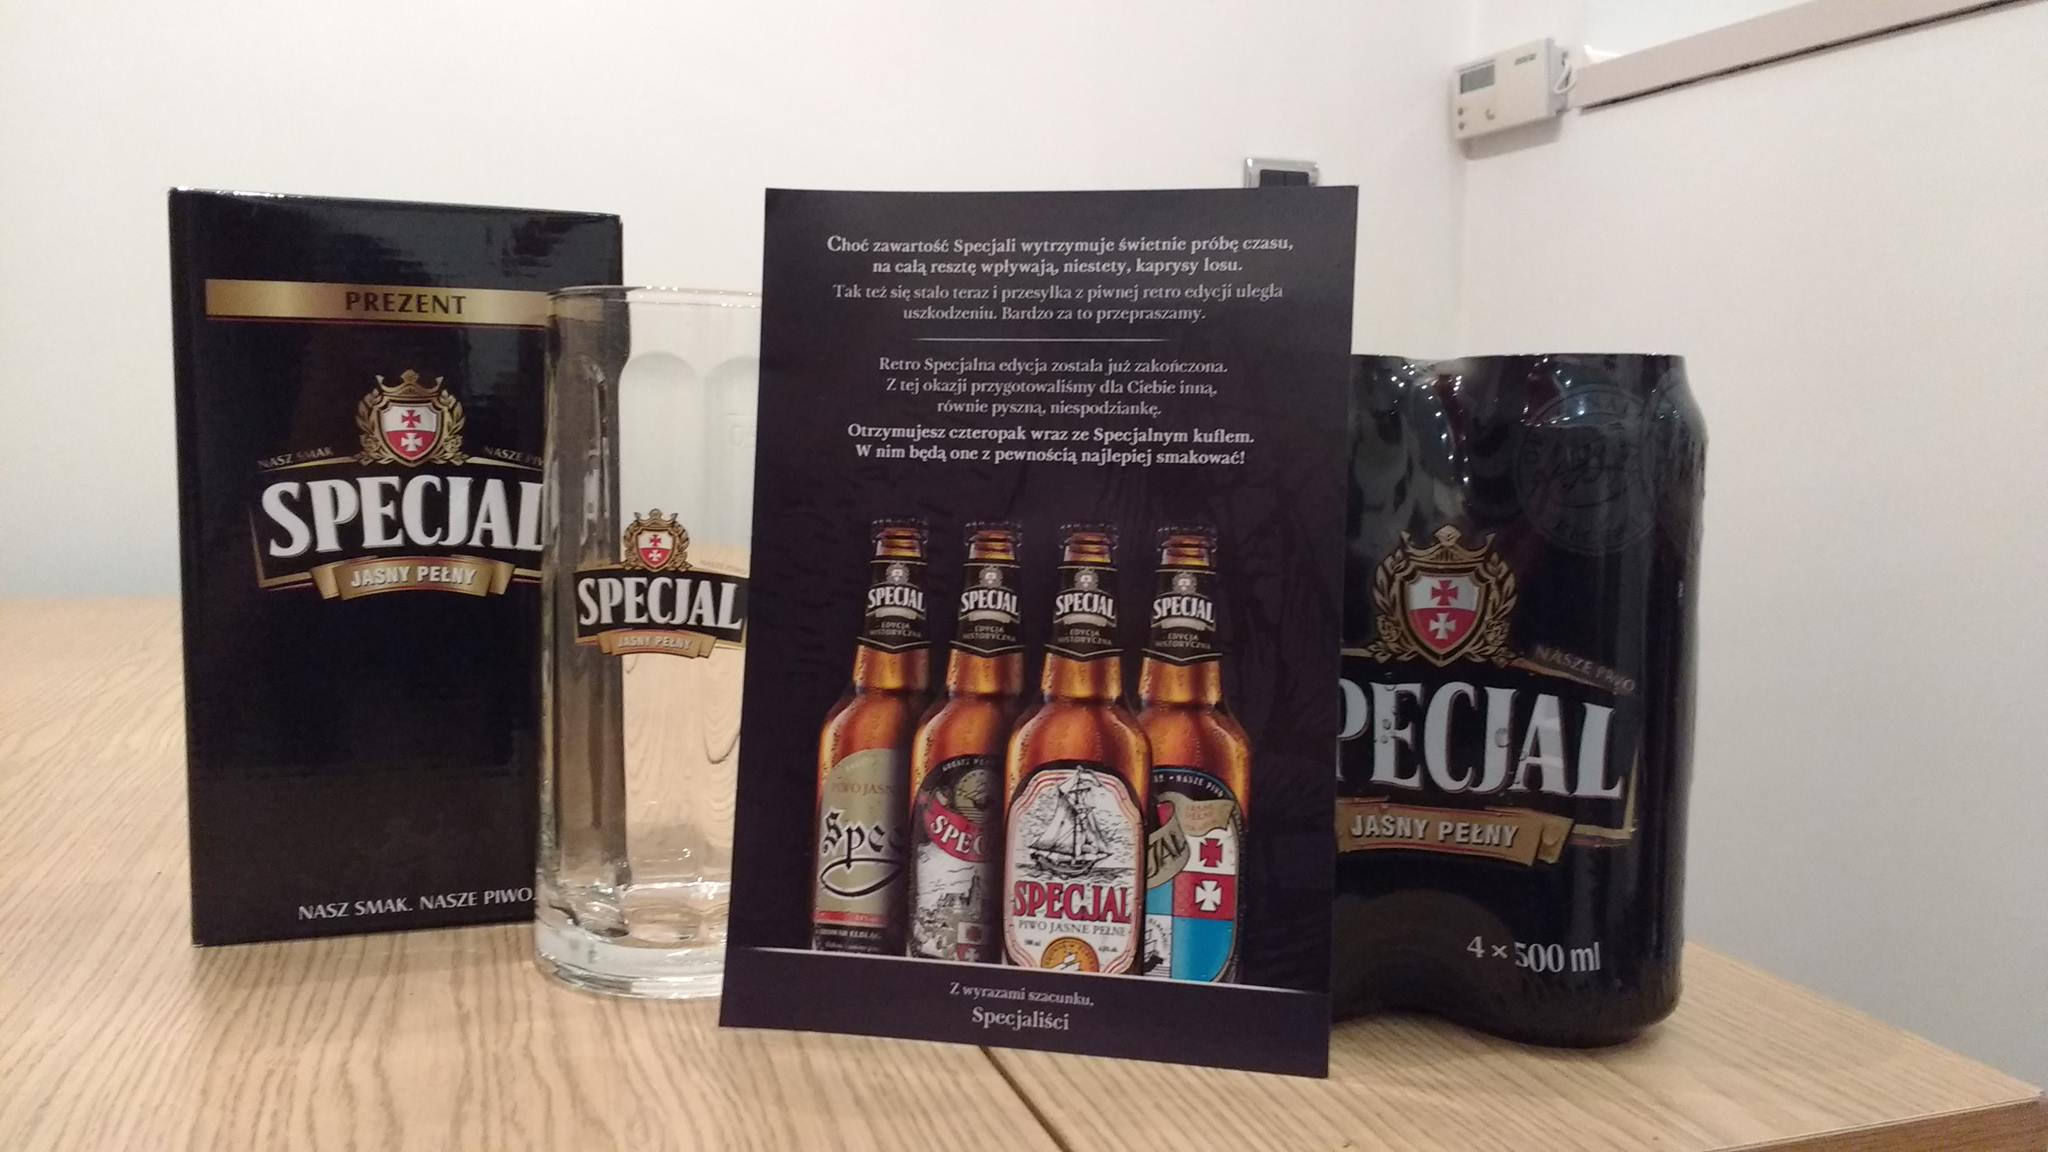specjal: (1325, 352, 1715, 1047)
